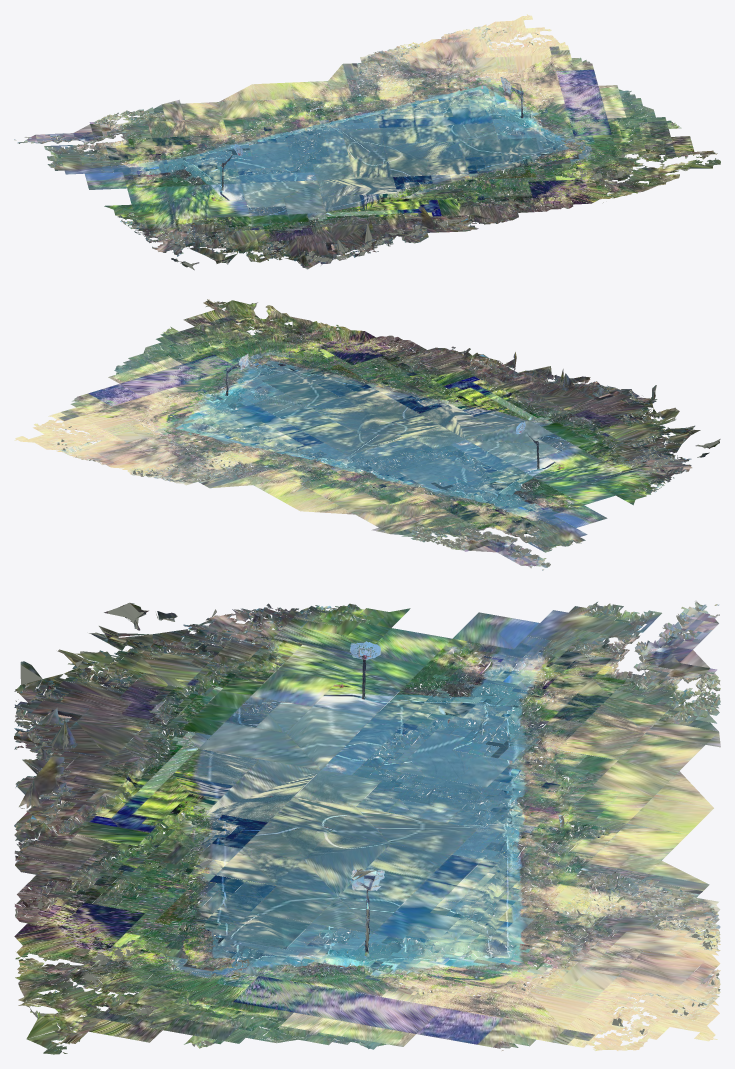
The model's file is court.glb.
3 views of the same model, one above another, from view 1: azimuth 30°, elevation 25°; view 2: azimuth 150°, elevation 25°; view 3: azimuth 270°, elevation 25° (orthographic). The views are drawn at different scales.
Visible parts, largest first — view 1: node; view 2: node; view 3: node.
Part boxes in pixels (x1=…): node: x1=14, y1=14, x2=720, y2=270; node: x1=14, y1=299, x2=720, y2=570; node: x1=14, y1=601, x2=720, y2=1054.
Bounding box in the file's own units: 50 × 4.62 × 33.99.
3 materials, 3 textured.
